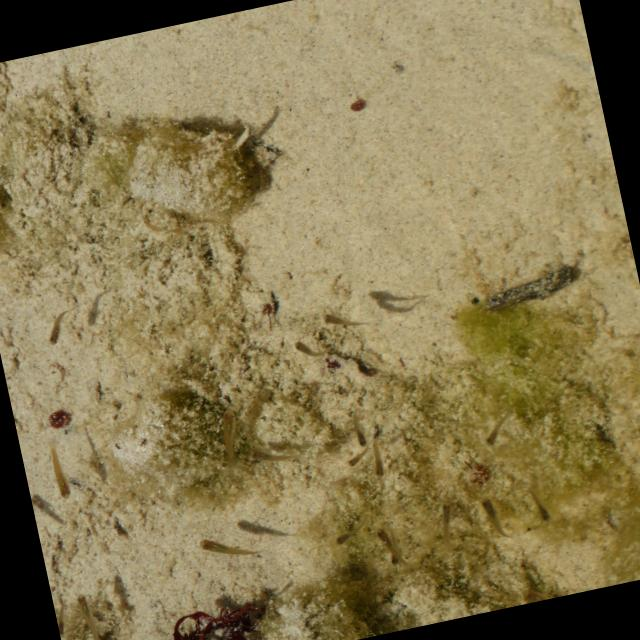Sivrisinek Baligi: (230, 506, 297, 548), (196, 528, 255, 566), (42, 437, 74, 502), (473, 494, 512, 543), (319, 301, 370, 338), (372, 523, 412, 569), (286, 329, 338, 364), (71, 590, 105, 640), (522, 484, 558, 528), (428, 503, 462, 549), (328, 513, 372, 546), (40, 307, 76, 343), (477, 410, 514, 444), (338, 440, 372, 470), (343, 404, 367, 444), (366, 438, 388, 480)
